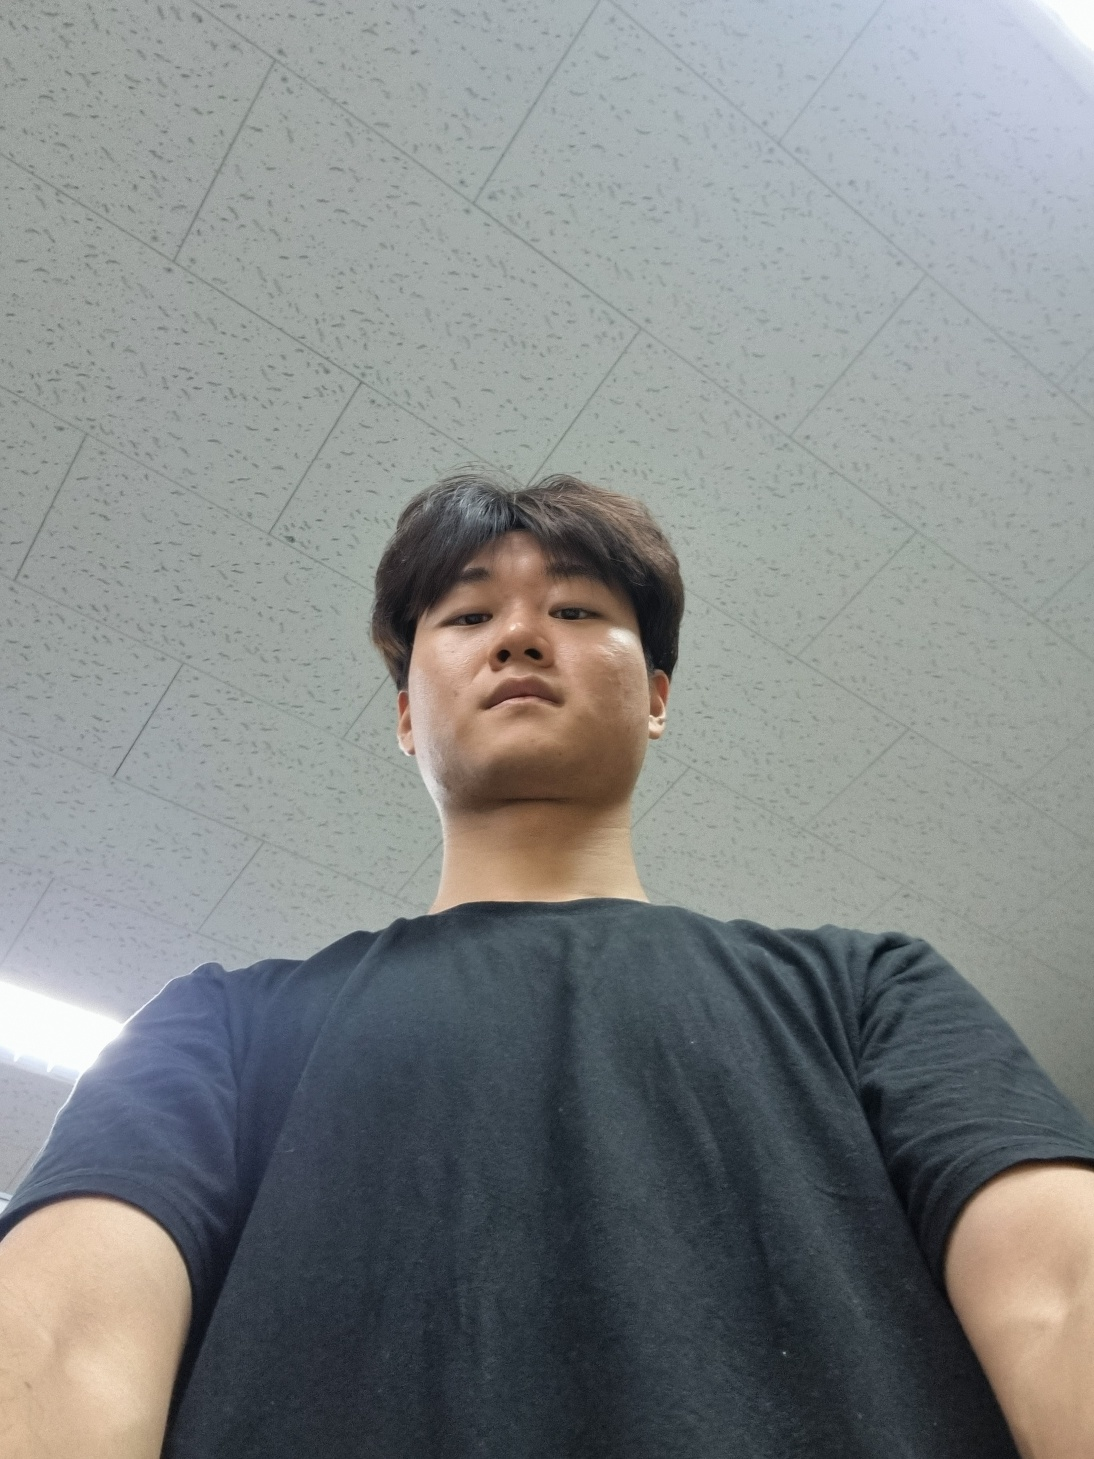Non-Helmet: (276, 425, 766, 854)
